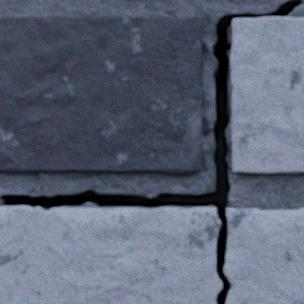brick: (0, 16, 203, 173), (230, 17, 303, 174)
broken_brick: (0, 206, 221, 303), (223, 208, 303, 303)
crack: (0, 0, 303, 303)
